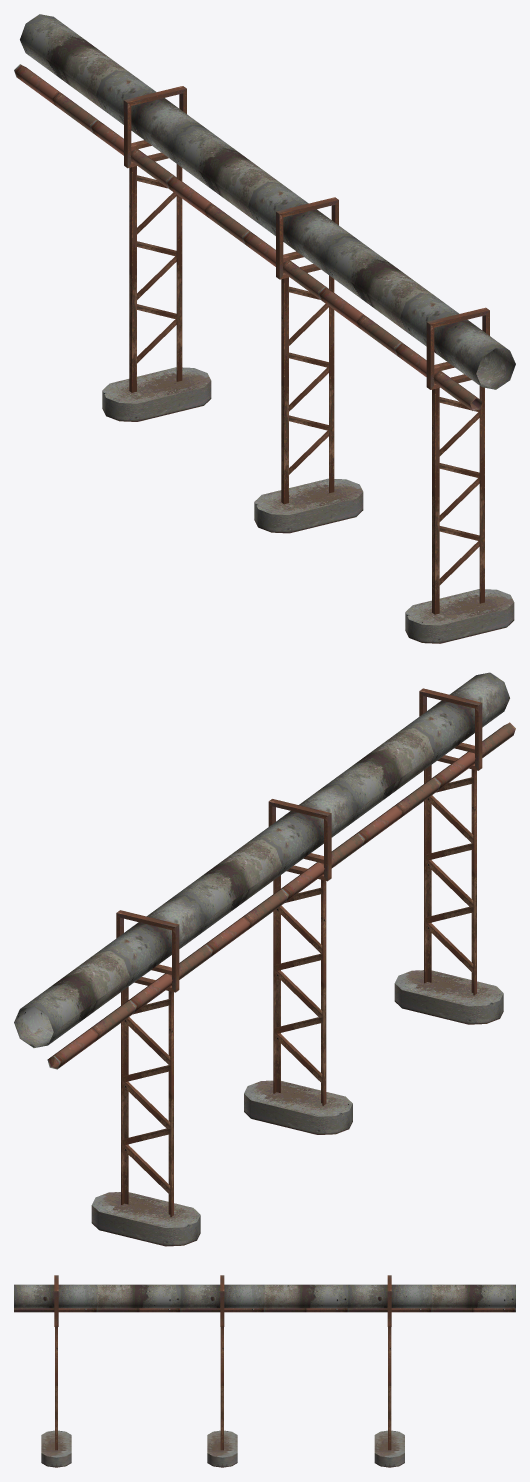
File: rail.glb
3 renders of one model, top to bottom at view 1: azimuth 30°, elevation 25°; view 2: azimuth 150°, elevation 25°; view 3: azimuth 270°, elevation 25°, orthographic. The views are drawn at different scales.
Bounding box in the file's own units: 1.77 × 5.15 × 13.75.
Materials: 1 (1 with a texture image).
